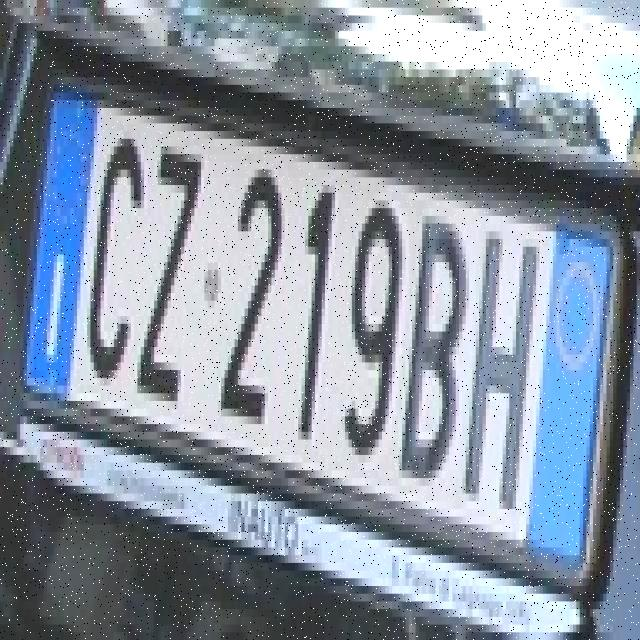licenseplate: (28, 68, 602, 604)
